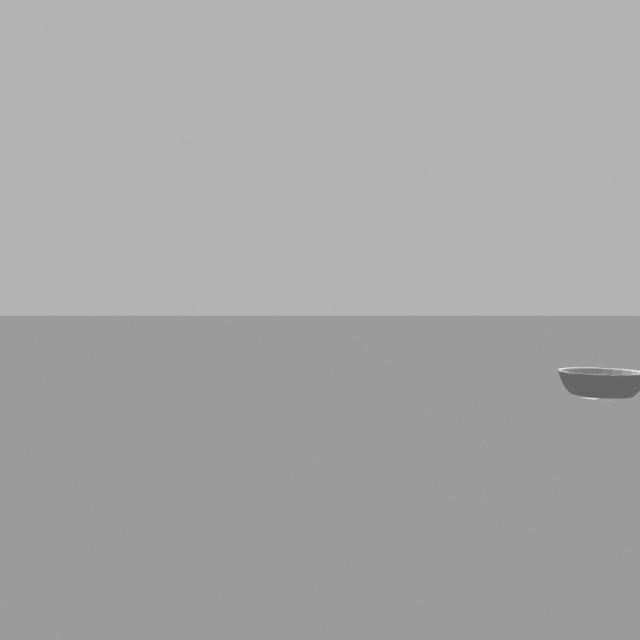bowl: (551, 354, 640, 405)
